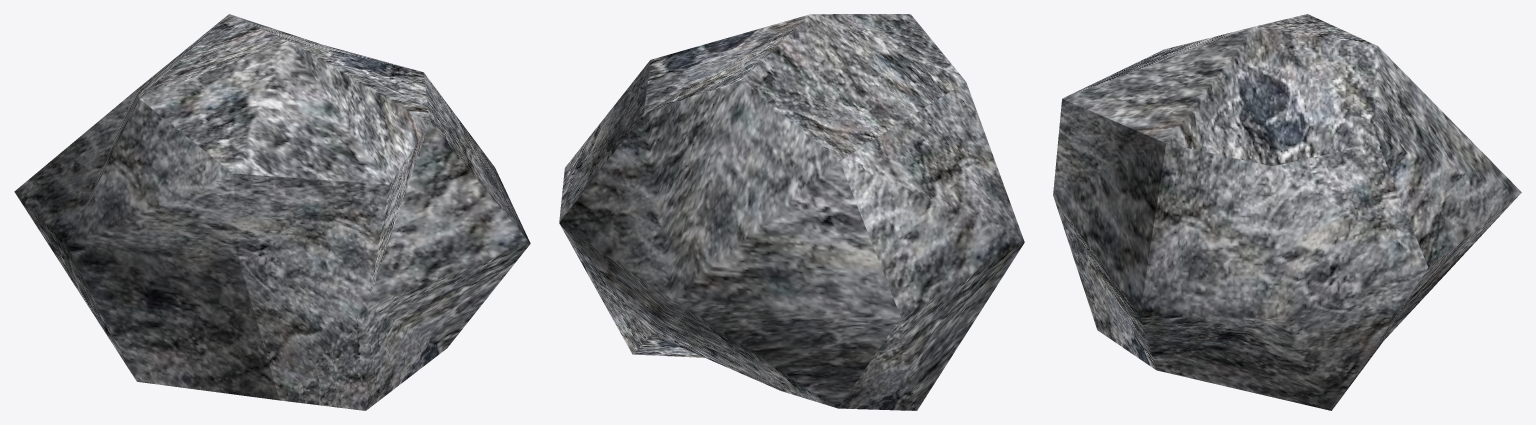
File: stone.fbx
3 views of the same model, side by side, from view 1: azimuth 30°, elevation 25°; view 2: azimuth 150°, elevation 25°; view 3: azimuth 270°, elevation 25° (orthographic). The views are drawn at different scales.
Parts seen in each view (by area): view 1: pCube1; view 2: pCube1; view 3: pCube1.
Part boxes in pixels (bbox=[...]): pCube1: bbox=[14, 14, 530, 410]; pCube1: bbox=[559, 14, 1024, 410]; pCube1: bbox=[1053, 14, 1521, 410].
Size of the model in its own units: 2.32 by 1.75 by 2.21.
